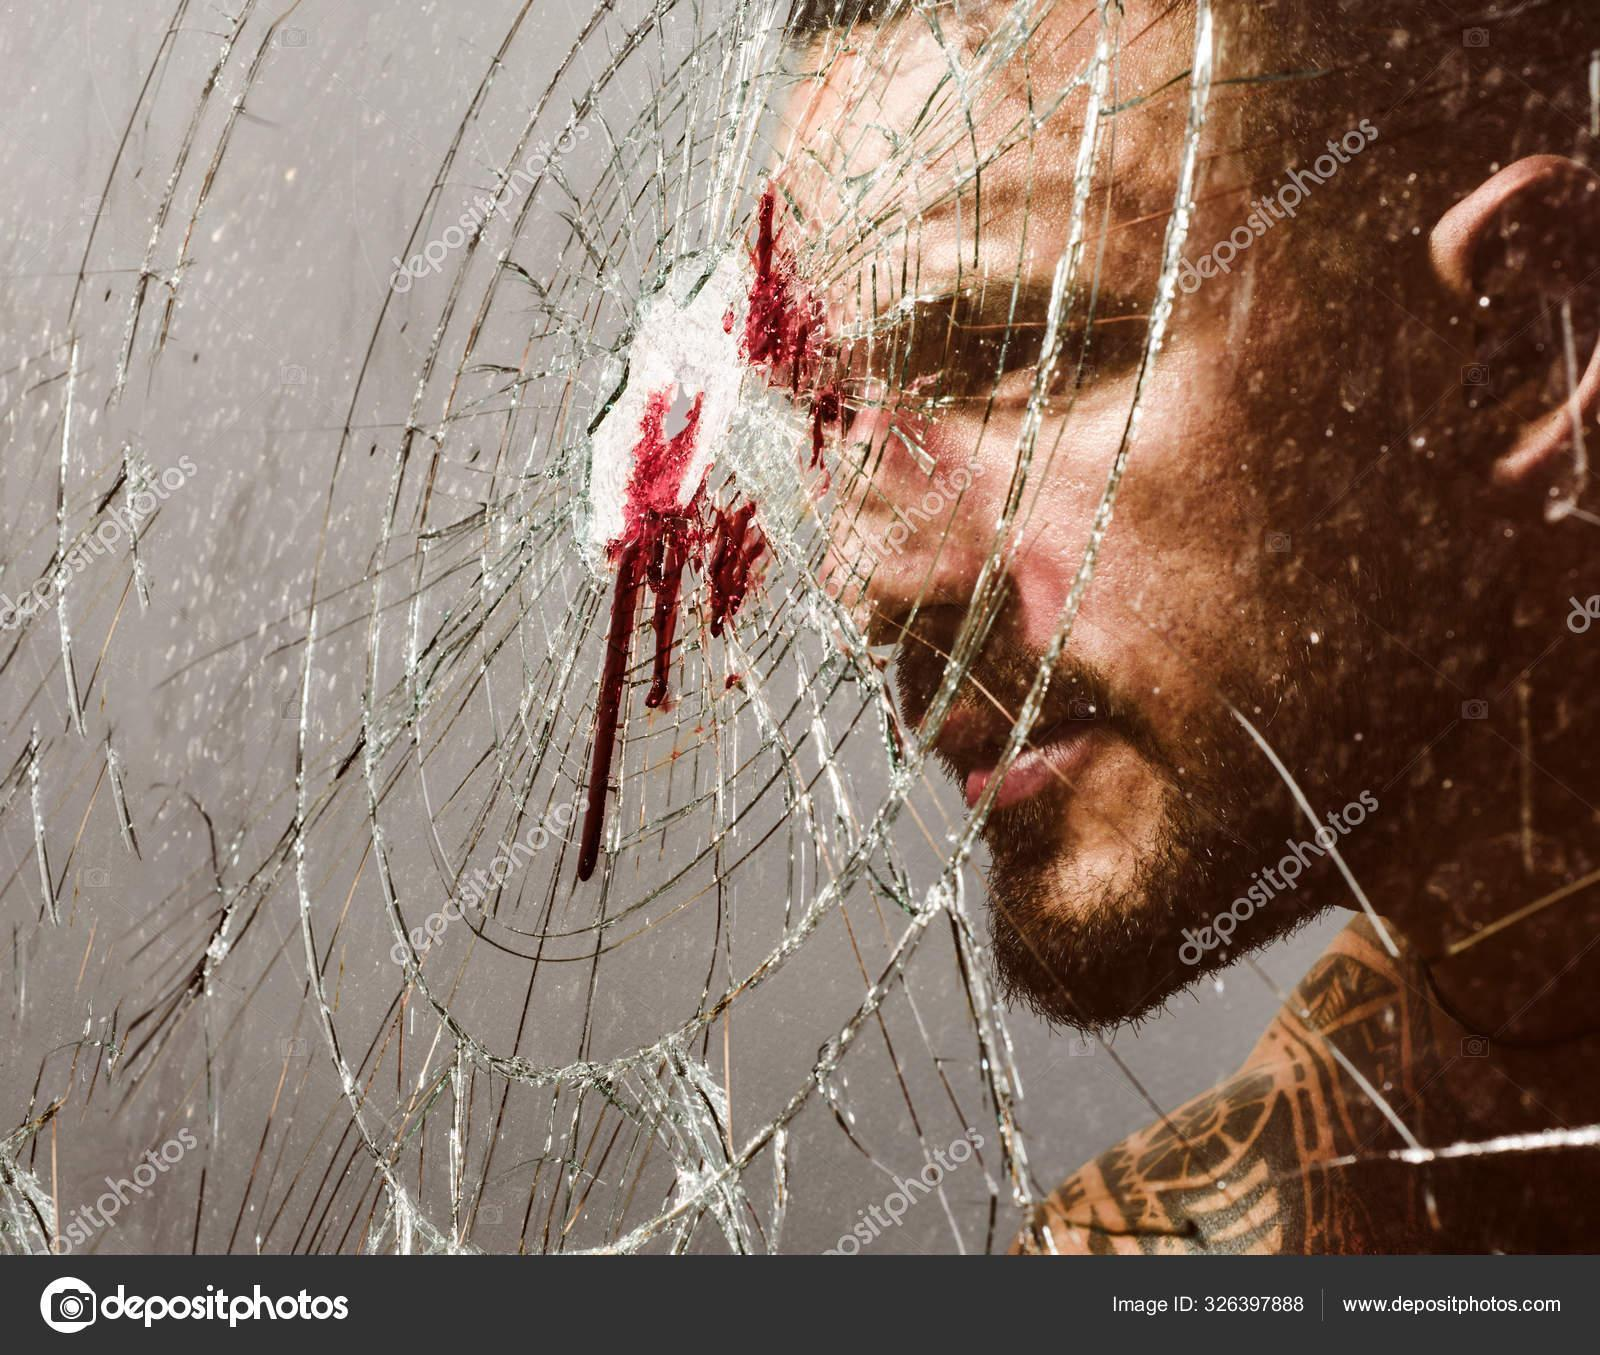Fire: (577, 382, 772, 880), (737, 177, 838, 398), (808, 383, 846, 470)
